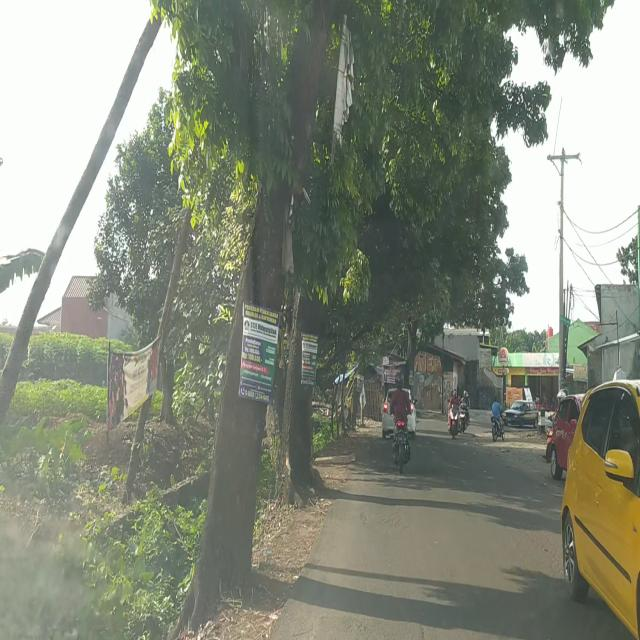Drain Hole: (376, 494, 407, 530)
